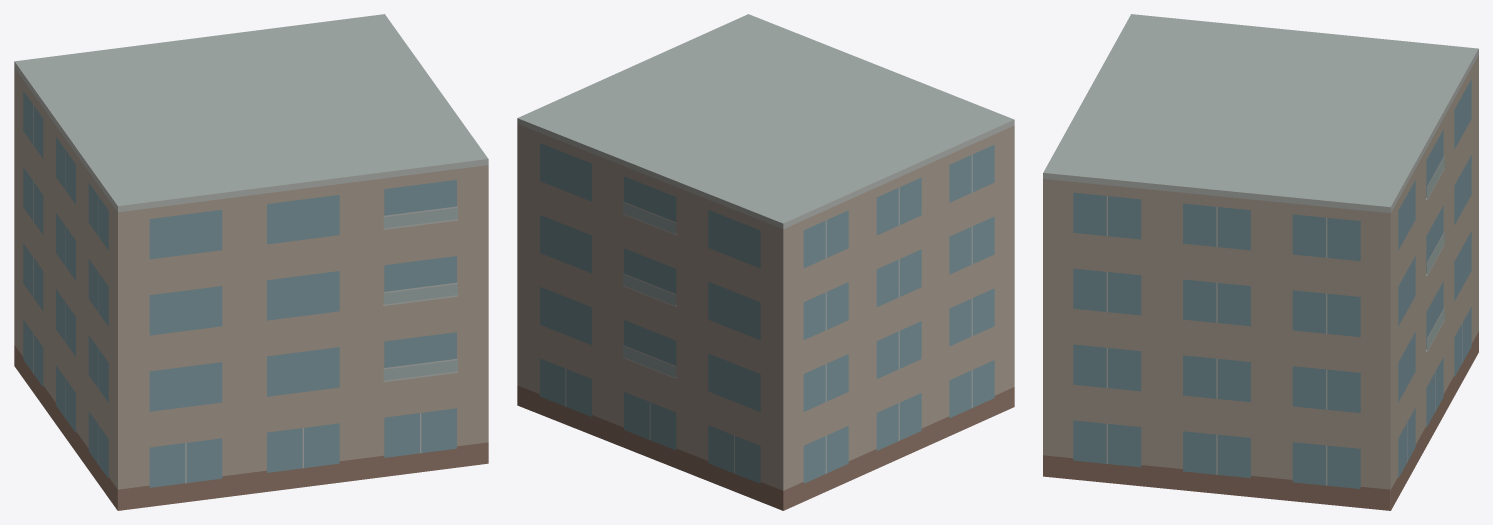
The model's file is residential-01c7ce72-b172-47de-82b8-1b46a296c7bb.glb.
3 renders of one model, left to right at view 1: azimuth 30°, elevation 25°; view 2: azimuth 150°, elevation 25°; view 3: azimuth 270°, elevation 25°, orthographic. The views are drawn at different scales.
Parts seen in each view (by area): view 1: residential-01c7ce72-b172-47de-82b8-1b46a296c7bb.tmp; view 2: residential-01c7ce72-b172-47de-82b8-1b46a296c7bb.tmp; view 3: residential-01c7ce72-b172-47de-82b8-1b46a296c7bb.tmp.
Part boxes in pixels (left/top/right/bottom): residential-01c7ce72-b172-47de-82b8-1b46a296c7bb.tmp: left=14, top=14, right=488, bottom=510; residential-01c7ce72-b172-47de-82b8-1b46a296c7bb.tmp: left=517, top=14, right=1014, bottom=510; residential-01c7ce72-b172-47de-82b8-1b46a296c7bb.tmp: left=1043, top=14, right=1478, bottom=510.
Bounding box in the file's own units: 16.66 × 12.2 × 15.87.
